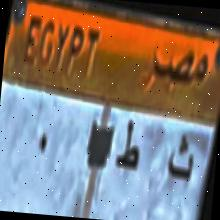0: (32, 120, 54, 168)
Taa: (112, 115, 144, 182)
thaa: (162, 124, 198, 192)
